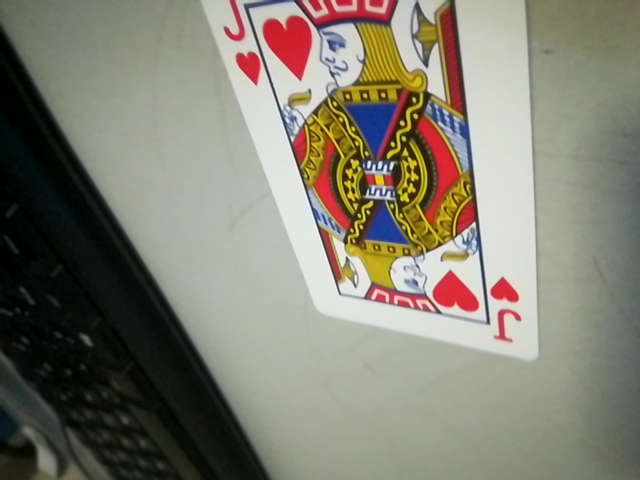hx j: (479, 273, 532, 350)
